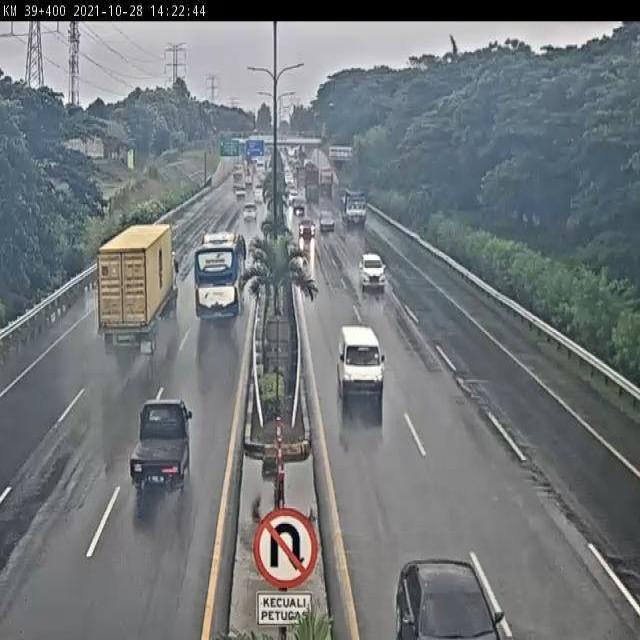big bus: (189, 226, 259, 326)
big truck: (90, 221, 181, 359), (337, 188, 366, 227), (303, 173, 324, 204)
car: (373, 496, 478, 636), (125, 393, 195, 500), (335, 325, 386, 408), (355, 249, 392, 295), (297, 217, 317, 240), (241, 203, 258, 228), (318, 211, 337, 233), (251, 188, 267, 207), (292, 196, 307, 216)
